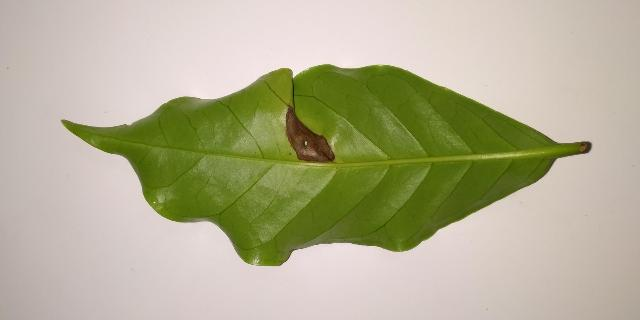rust: (286, 106, 335, 162)
